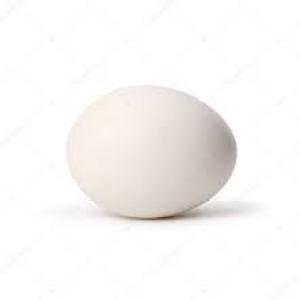Egg: (62, 81, 241, 223)
